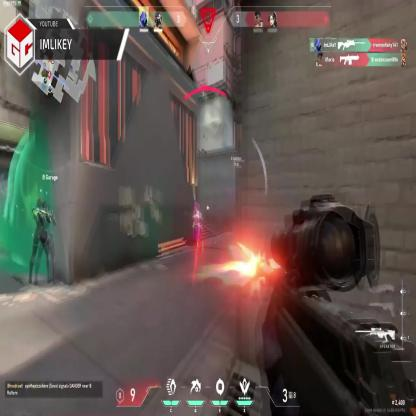enemy: (192, 202, 202, 247)
enemy_head: (194, 202, 198, 211)
